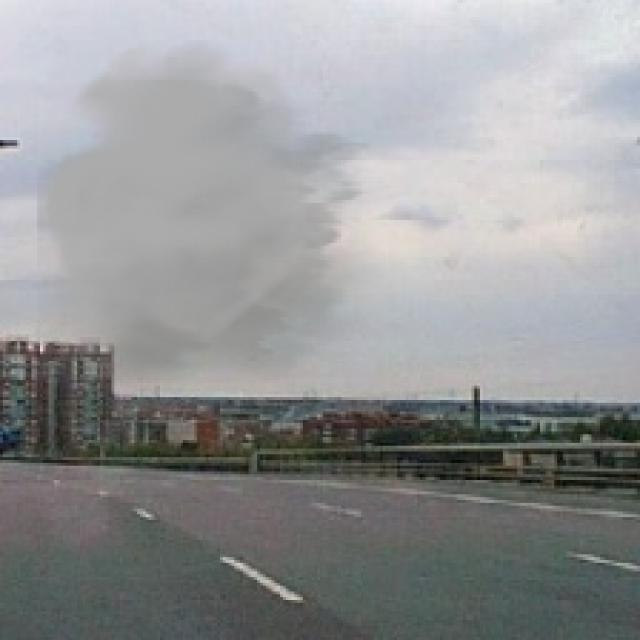smoke: (37, 40, 406, 403)
